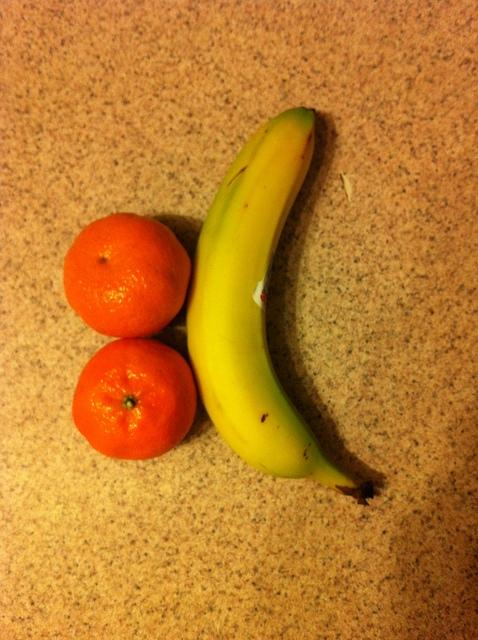banana: (185, 106, 373, 506)
orange: (64, 212, 191, 338), (72, 338, 196, 460)
